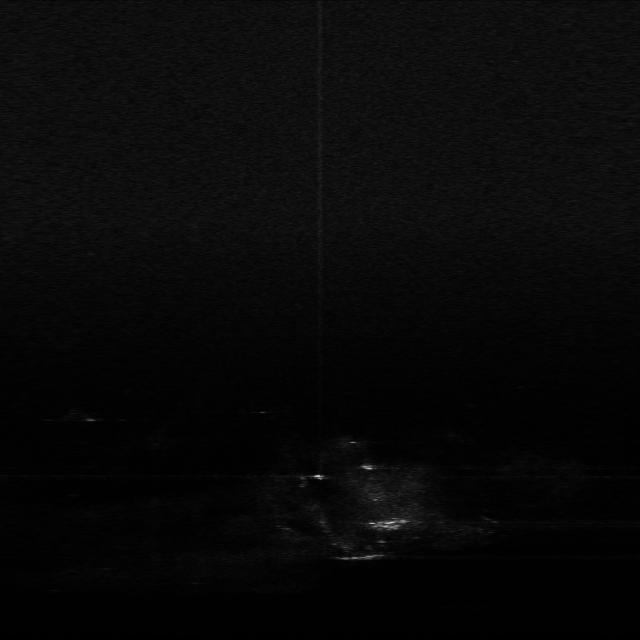rov: (366, 518, 410, 532)
